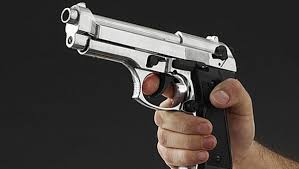gun: (59, 2, 241, 169)
